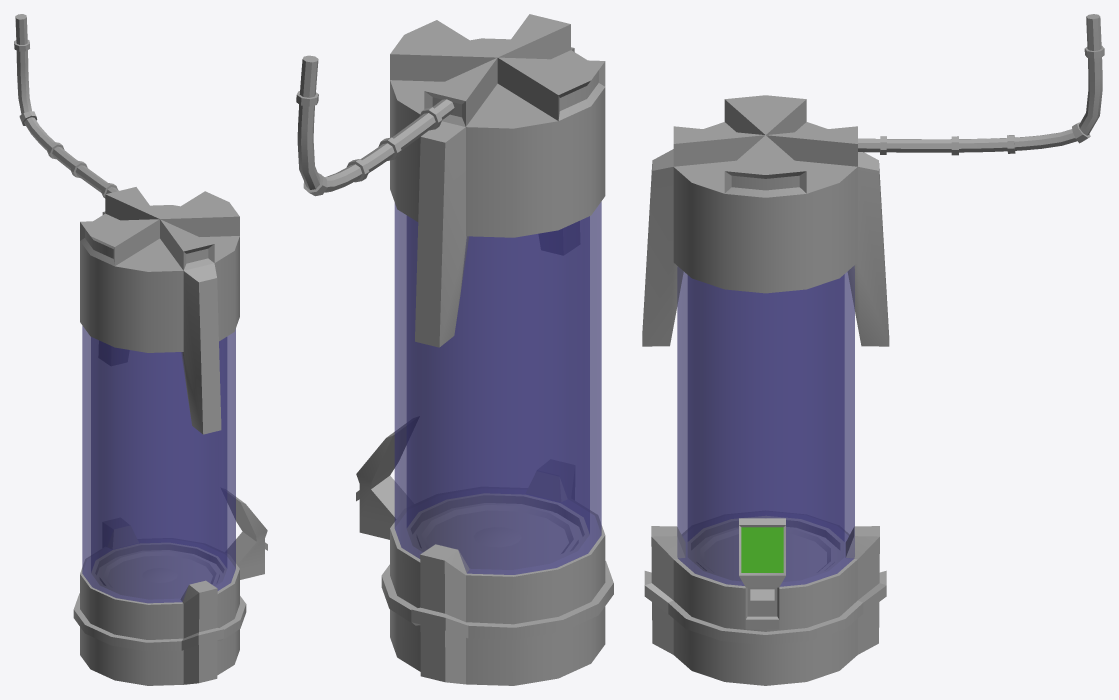
File: Vital_system_.fbx
3 renders of one model, left to right at view 1: azimuth 30°, elevation 25°; view 2: azimuth 150°, elevation 25°; view 3: azimuth 270°, elevation 25°, orthographic. The views are drawn at different scales.
Visible parts, largest first — view 1: Lab_Vital_support, Cable_Vital_system_lab; view 2: Lab_Vital_support, Cable_Vital_system_lab; view 3: Lab_Vital_support, Cable_Vital_system_lab, Lab_vital_LED.
Boxes of the visible parts, x1,y1,x2,y2 form: Lab_Vital_support: [73, 187, 267, 685]; Cable_Vital_system_lab: [14, 14, 118, 198]; Lab_Vital_support: [356, 14, 613, 685]; Cable_Vital_system_lab: [296, 55, 454, 196]; Lab_Vital_support: [642, 95, 889, 685]; Cable_Vital_system_lab: [858, 14, 1104, 155]; Lab_vital_LED: [741, 527, 783, 572].
Bounding box in the file's own units: 276 × 799 × 532.
